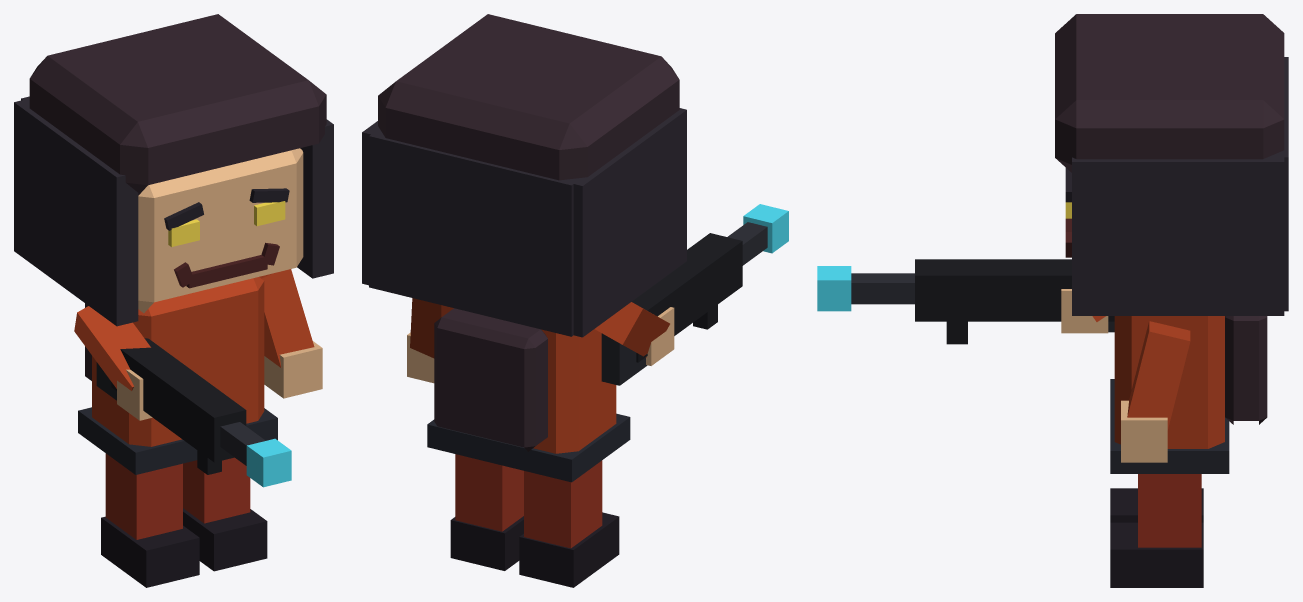
The model's file is gunner_r3.glb.
3 views of the same model, side by side, from view 1: azimuth 30°, elevation 25°; view 2: azimuth 150°, elevation 25°; view 3: azimuth 270°, elevation 25° (orthographic). The views are drawn at different scales.
Parts seen in each view (by area): view 1: gunner_r3_mesh; view 2: gunner_r3_mesh; view 3: gunner_r3_mesh.
Boxes of the visible parts, box(x1,y1,x2,y2) form: gunner_r3_mesh: box(14, 14, 333, 587); gunner_r3_mesh: box(362, 14, 788, 587); gunner_r3_mesh: box(817, 14, 1288, 587).
Size of the model in its own units: 0.7938 by 1.6 by 1.37.
1 material, 1 textured.
